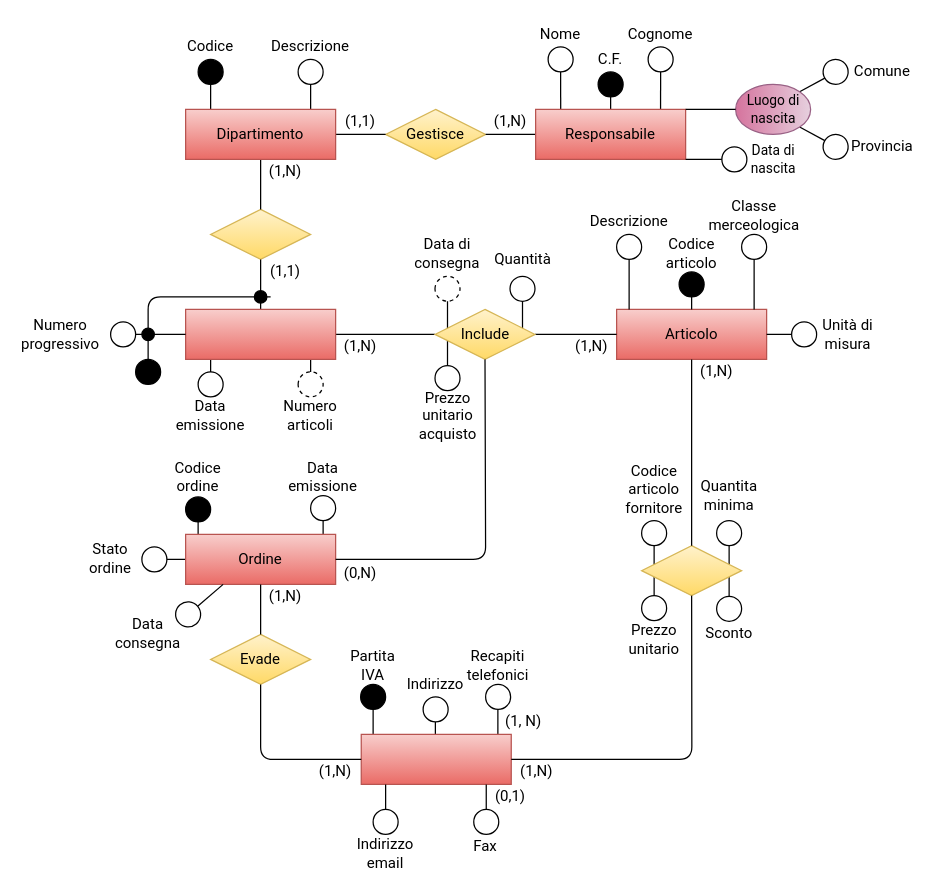
The diagram is 938 pixels wide and 893 high, and some of its shapes have lost their labels. The shapes that lost their labels are listed below. From the top down, each one's centre as x and y in pixels, then its label:
the point at 260,233: Formula
the point at 260,333: Richiesta d'acquisto
the point at 691,570: Fornisce
the point at 435,758: Fornitore
